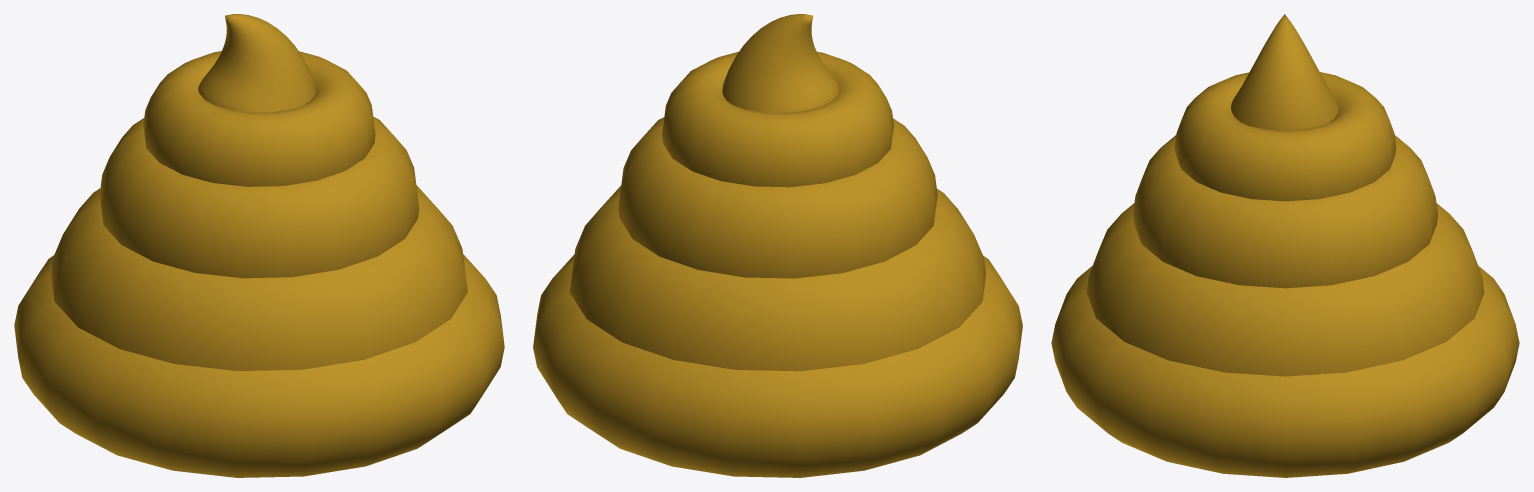
The picture shows the model from 3 angles, left to right: view 1: azimuth 30°, elevation 25°; view 2: azimuth 150°, elevation 25°; view 3: azimuth 270°, elevation 25°; orthographic projection. The views are drawn at different scales.
Parts seen in each view (by area): view 1: pTorus1, pTorus2, pTorus3, pTorus4, pCone1; view 2: pTorus1, pTorus2, pTorus3, pTorus4, pCone1; view 3: pTorus1, pTorus2, pTorus3, pTorus4, pCone1.
Part boxes in pixels (bbox=[...]): pTorus1: bbox=[14, 254, 504, 477]; pTorus2: bbox=[51, 185, 467, 371]; pTorus3: bbox=[99, 116, 419, 278]; pTorus4: bbox=[143, 51, 375, 186]; pCone1: bbox=[198, 14, 315, 112]; pTorus1: bbox=[533, 254, 1022, 477]; pTorus2: bbox=[570, 186, 985, 371]; pTorus3: bbox=[618, 117, 937, 278]; pTorus4: bbox=[662, 51, 893, 187]; pCone1: bbox=[722, 14, 839, 112]; pTorus1: bbox=[1051, 266, 1519, 477]; pTorus2: bbox=[1086, 203, 1484, 376]; pTorus3: bbox=[1133, 135, 1437, 288]; pTorus4: bbox=[1174, 72, 1396, 201]; pCone1: bbox=[1231, 14, 1338, 130].
Size of the model in its own units: 0.9911 by 0.8739 by 0.9911.
